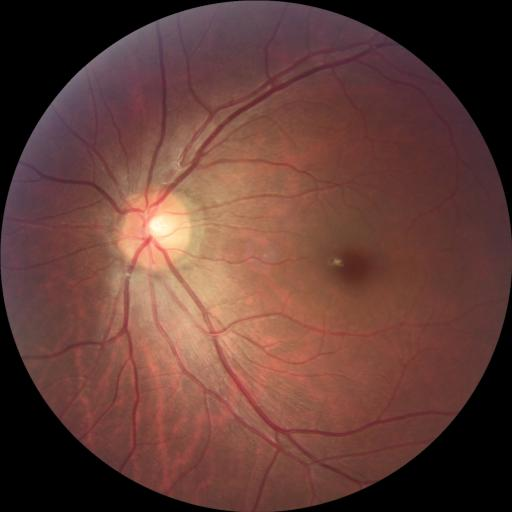Optic Cup: (146, 216, 170, 240)
Optic Disc: (115, 190, 192, 271)
